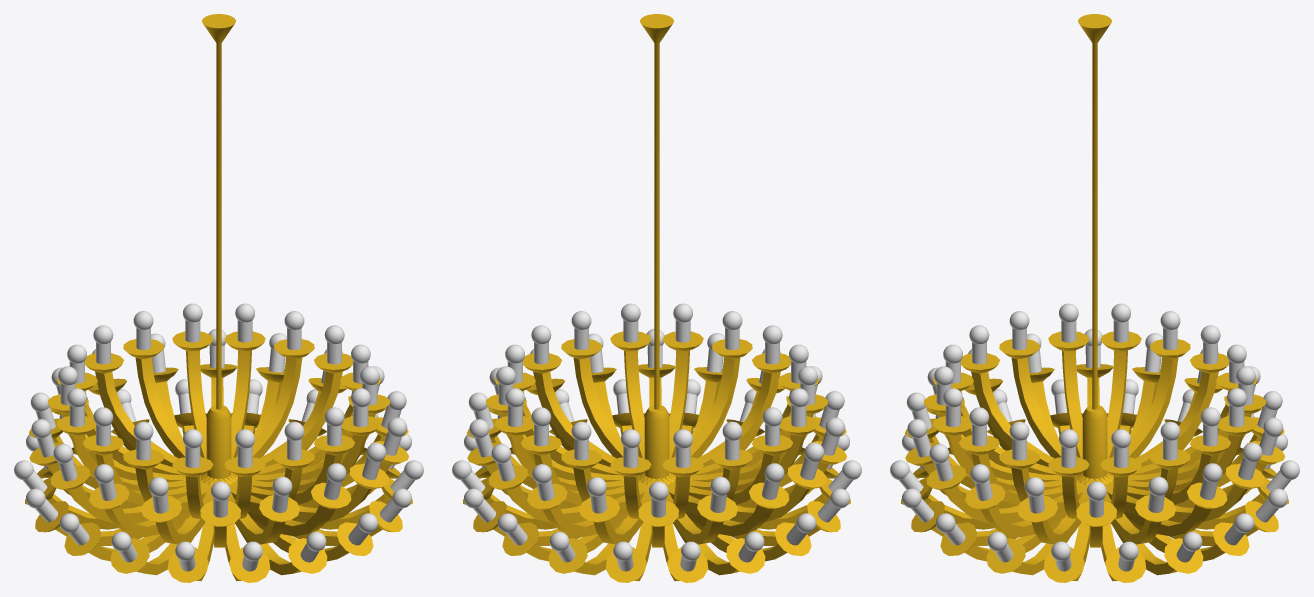
Rendered from small light.fbx.
3 views of the same model, side by side, from view 1: azimuth 30°, elevation 25°; view 2: azimuth 150°, elevation 25°; view 3: azimuth 270°, elevation 25° (orthographic).
Visible parts, largest first — view 1: Cube, Cylinder; view 2: Cube, Cylinder; view 3: Cube, Cylinder.
Part boxes in pixels (box(x1,y1,x2,y2)): Cube: box(14, 303, 423, 582); Cylinder: box(202, 14, 235, 478); Cube: box(452, 303, 861, 582); Cylinder: box(640, 14, 673, 478); Cube: box(890, 303, 1299, 582); Cylinder: box(1078, 14, 1111, 478).
Bounding box in the file's own units: 3.05 × 4.21 × 3.09.
